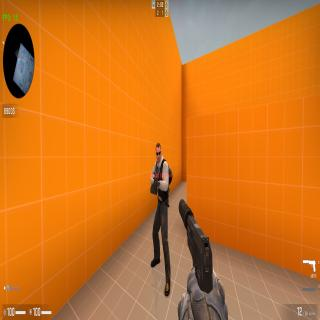T-Body: (150, 142, 171, 297)
T-Head: (156, 142, 162, 162)
